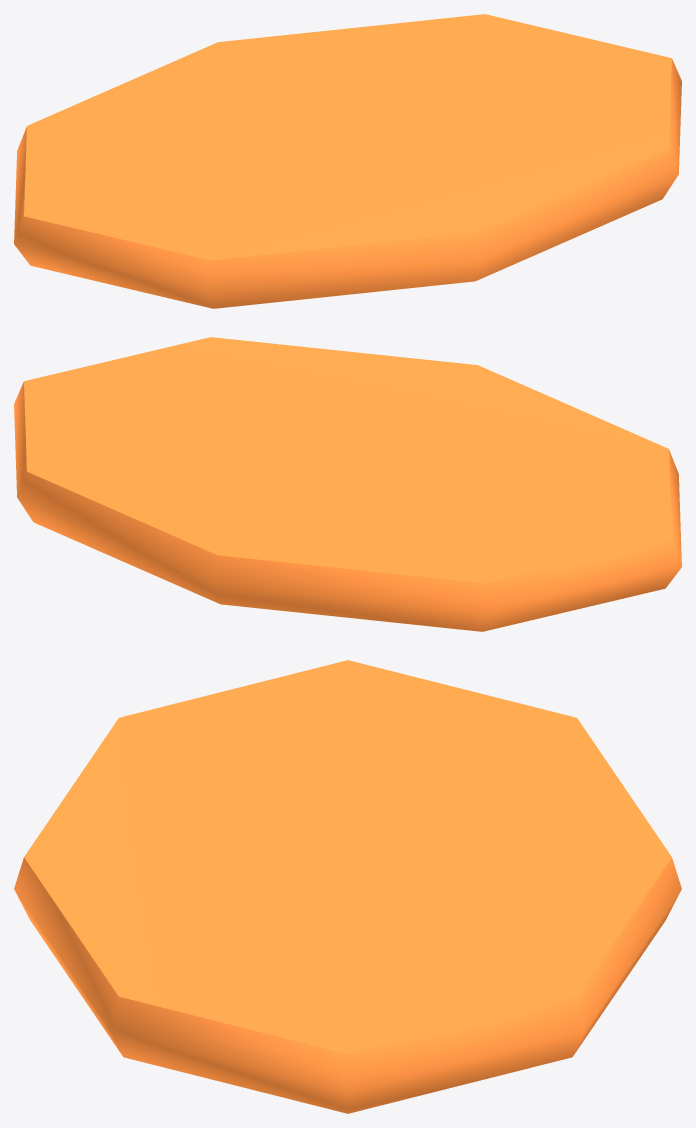
File: bronze_guard_079.glb
3 renders of one model, top to bottom at view 1: azimuth 30°, elevation 25°; view 2: azimuth 150°, elevation 25°; view 3: azimuth 270°, elevation 25°, orthographic. The views are drawn at different scales.
Visible parts, largest first — view 1: bronze_guard_079; view 2: bronze_guard_079; view 3: bronze_guard_079.
Boxes of the visible parts, x1,y1,x2,y2 form: bronze_guard_079: (14,14,681,308); bronze_guard_079: (14,337,681,631); bronze_guard_079: (14,660,681,1113).
Bounding box in the file's own units: 5.51 × 0.4014 × 3.83.
1 material, 1 textured.
